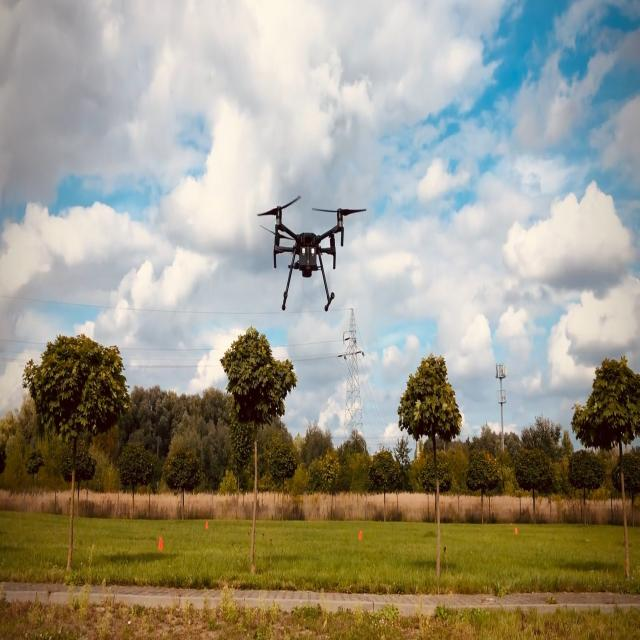drone: (256, 195, 366, 312)
